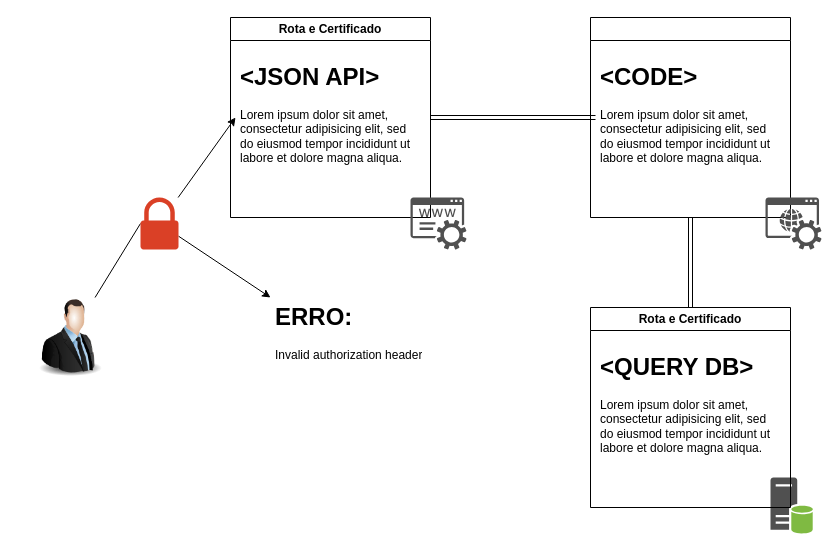
Image size: 839x551. Some labels were removed from this diagram. Each missing label, with the box of its shape:
Aplicação do desenvolvedor: (590, 16, 790, 218)
Desconhecido Tenta acessar a API Sem o TOKEN: (30, 297, 110, 377)
